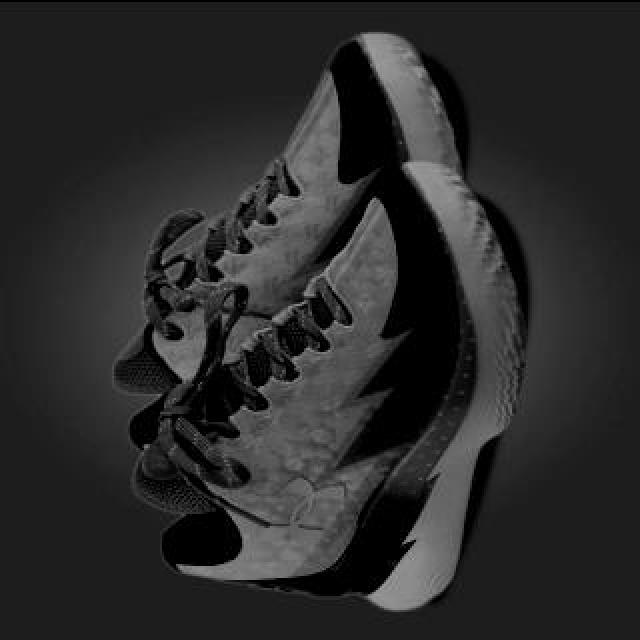shoes: (129, 159, 525, 607), (111, 31, 471, 463)
